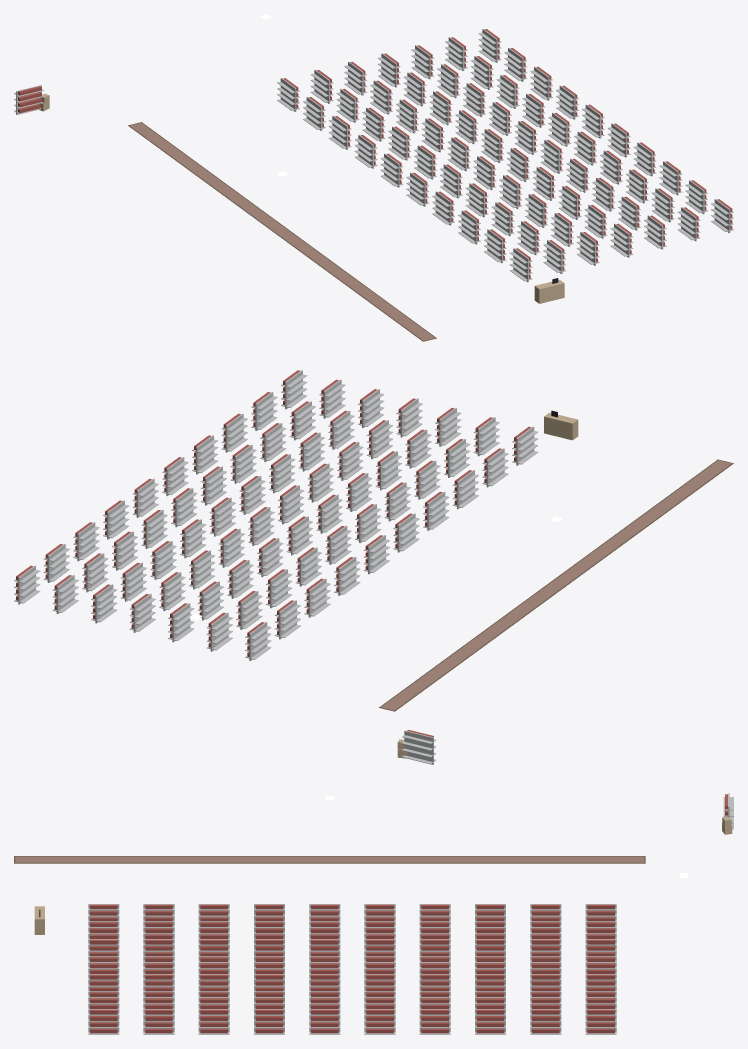
The model's file is fine-s0.glb.
3 renders of one model, top to bottom at view 1: azimuth 30°, elevation 25°; view 2: azimuth 150°, elevation 25°; view 3: azimuth 270°, elevation 25°, orthographic. The views are drawn at different scales.
Parts seen in each view (by area): view 1: soft-s0, shelving.000, shop-counter.000, shelf.021, shelf.048, shelf.055, shelf.063, shelf.069, shelf.042, shelf.000, shelf.027, shelf.034 (+61 smaller); view 2: soft-s0, shelving.000, shop-counter.000, shelf.022, shelf.048, shelf.002, shelf.008, shelf.010, shelf.036, shelf.056, shelf.067, shelf.005 (+61 smaller); view 3: soft-s0, shelf.060, shelf.061, shelf.063, shelf.064, shelf.065, shelf.067, shelf.068, shelf.069, shelf.062, shelf.066, shelf.004 (+59 smaller).
Boxes of the visible parts, box(x1,y1,x2,y2) form: soft-s0: box(128, 122, 436, 341); shelving.000: box(14, 85, 43, 114); shop-counter.000: box(534, 278, 564, 303); shelf.021: box(370, 80, 392, 114); shelf.048: box(618, 196, 640, 230); shelf.055: box(574, 131, 596, 165); shelf.063: box(556, 85, 578, 119); shelf.069: box(711, 199, 733, 233); shelf.042: box(463, 83, 485, 117); shelf.000: box(277, 78, 299, 111); shelf.027: box(525, 194, 547, 227); shelf.034: box(481, 129, 503, 163); soft-s0: box(379, 459, 733, 711); shelving.000: box(402, 730, 436, 764); shop-counter.000: box(544, 410, 578, 440); shelf.022: box(227, 559, 253, 598); shelf.048: box(328, 410, 354, 449); shelf.002: box(304, 578, 330, 617); shelf.008: box(482, 448, 508, 487); shelf.010: box(206, 612, 232, 651); shelf.036: box(307, 463, 333, 502); shelf.056: box(230, 444, 256, 483); shelf.067: box(221, 413, 247, 452); shelf.005: box(393, 513, 419, 552); soft-s0: box(14, 856, 645, 863); shelf.060: box(585, 1009, 616, 1034); shelf.061: box(530, 1009, 561, 1034); shelf.063: box(419, 1009, 450, 1034); shelf.064: box(364, 1009, 395, 1034); shelf.065: box(309, 1009, 340, 1034); shelf.067: box(198, 1009, 229, 1034); shelf.068: box(143, 1009, 174, 1034); shelf.069: box(88, 1009, 119, 1034); shelf.062: box(475, 1009, 505, 1034); shelf.066: box(254, 1009, 284, 1034); shelf.004: box(364, 904, 395, 921).
Size of the model in its own units: 29.89 by 3.97 by 41.7.
